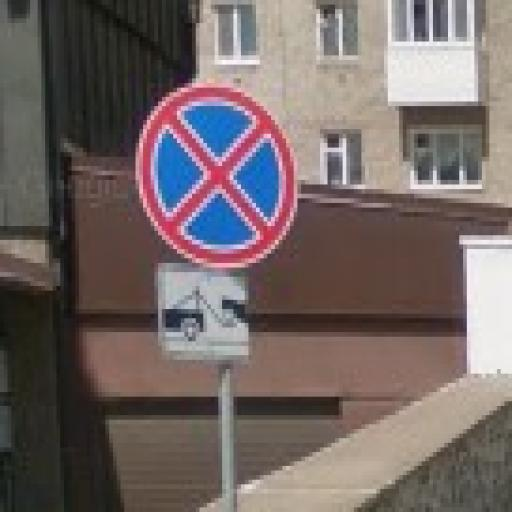traffic_sign: (137, 84, 299, 273)
